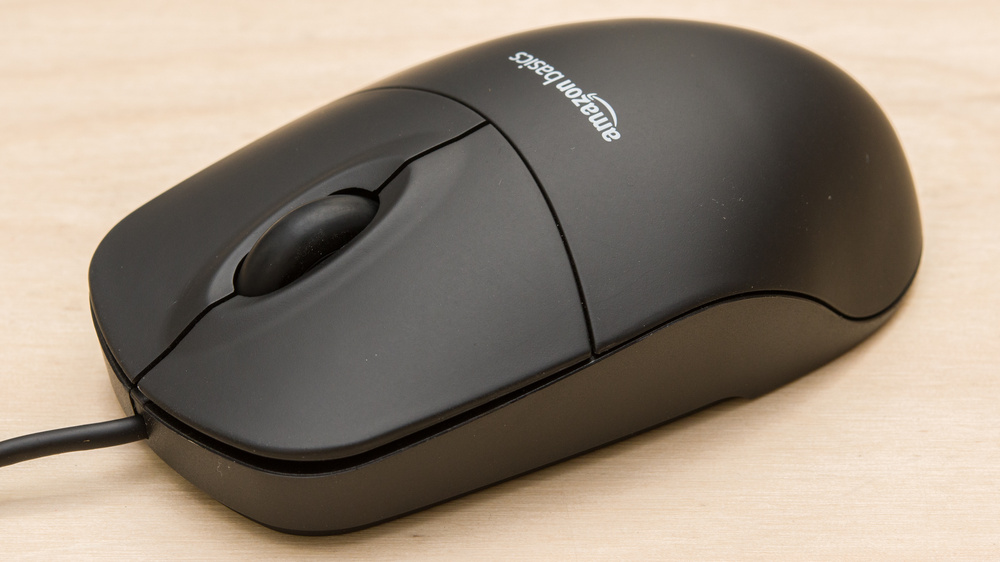mouse: (93, 47, 920, 499)
